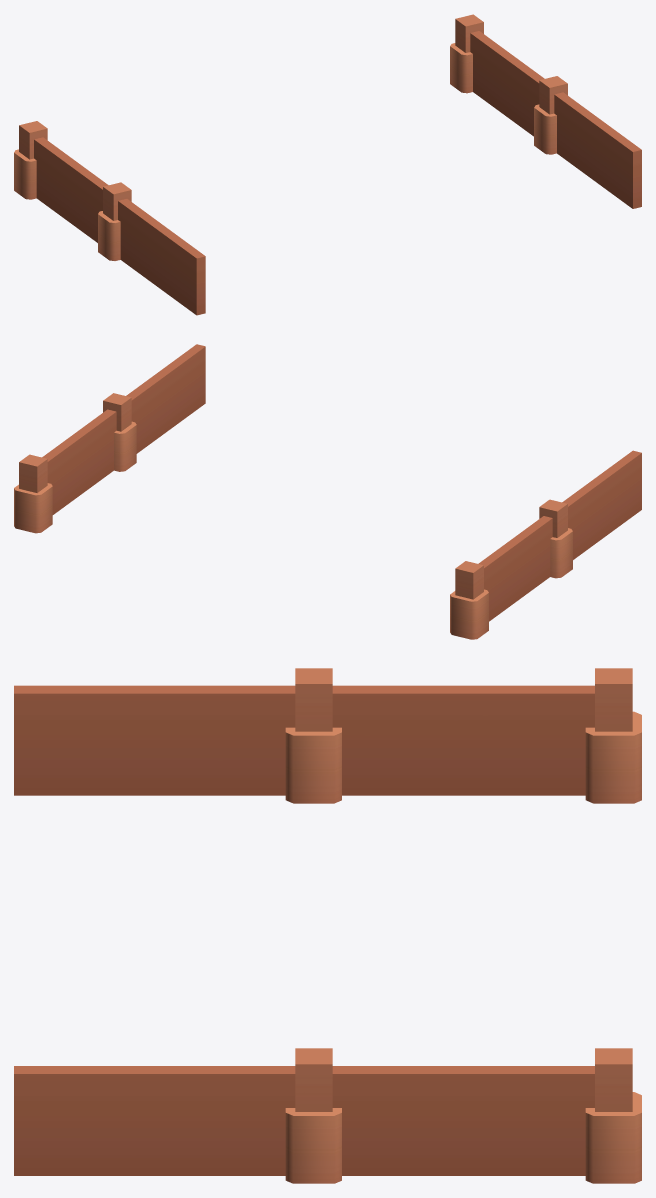
Rendered from sub-fence-low.glb.
3 renders of one model, top to bottom at view 1: azimuth 30°, elevation 25°; view 2: azimuth 150°, elevation 25°; view 3: azimuth 270°, elevation 25°, orthographic. The views are drawn at different scales.
Parts seen in each view (by area): view 1: fence-low; view 2: fence-low; view 3: fence-low.
Part boxes in pixels (x1,y1,x2,y2): fence-low: [14, 14, 641, 315]; fence-low: [14, 344, 641, 639]; fence-low: [14, 668, 641, 1183].
Size of the model in its own units: 12.75 by 1.7 by 8.37.
1 material, 1 textured.
